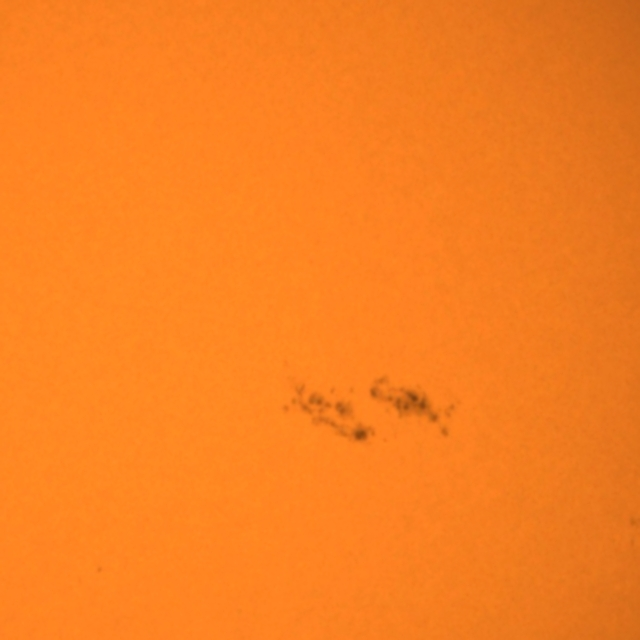sunspot: (276, 377, 383, 451), (361, 372, 469, 440), (627, 514, 640, 531), (94, 564, 106, 576)
